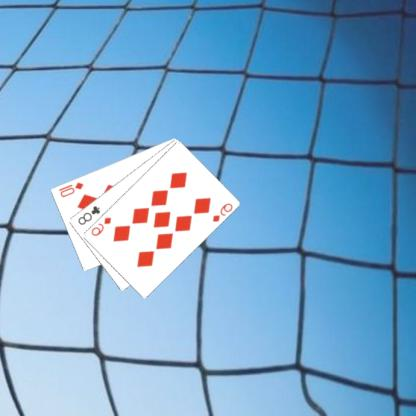10D: (57, 179, 86, 198)
8C: (77, 203, 103, 226)
9D: (211, 200, 236, 223), (90, 214, 114, 237)
